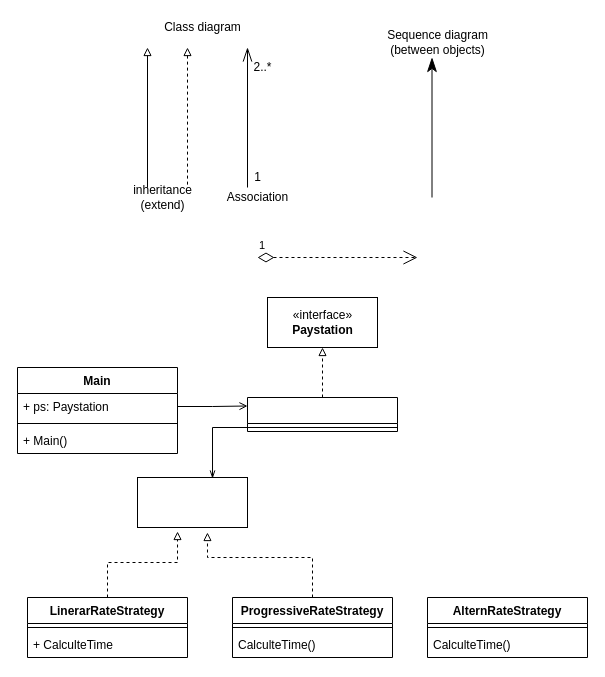
Image size: 605x677. Some labels were removed from this diagram. The shapes that lost their labels are listed below. From the top down, each one's centre as x and y in pixels, then its label:
At pixel 322 414: "PayStationImpl".
At pixel 192 502: "«interface» RateStrategy".
